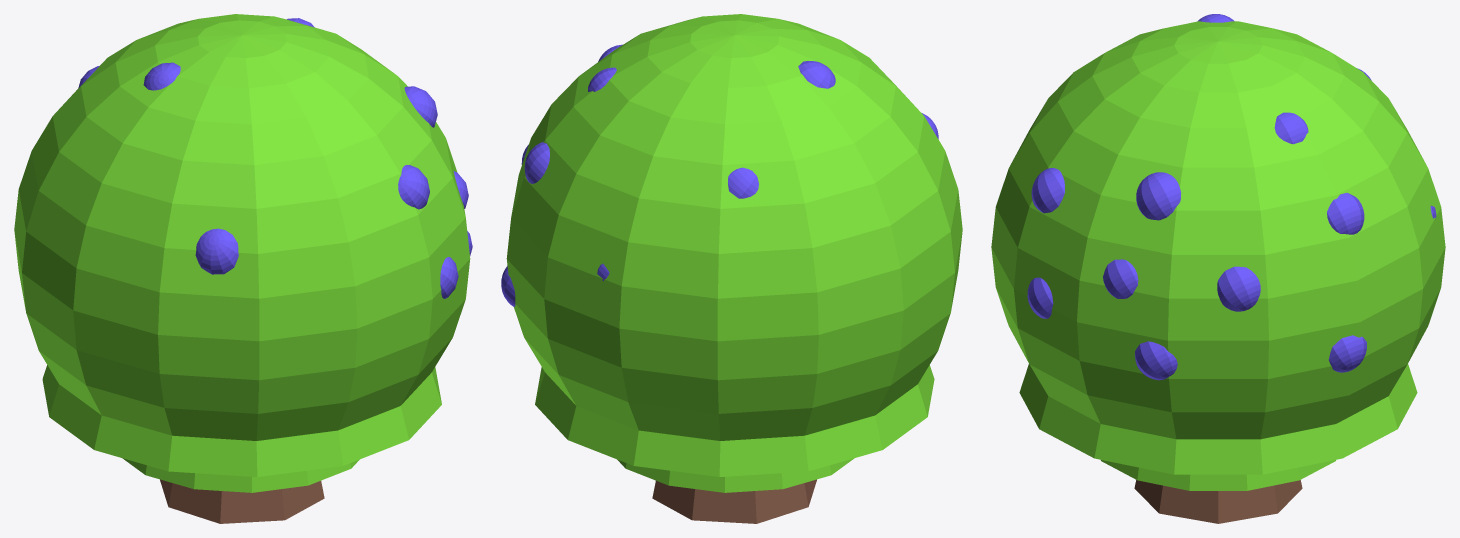
File: Bush 2.fbx
The picture shows the model from 3 angles, left to right: view 1: azimuth 30°, elevation 25°; view 2: azimuth 150°, elevation 25°; view 3: azimuth 270°, elevation 25°; orthographic projection.
Visible parts, largest first — view 1: bush, berries, trunk; view 2: bush, trunk, berries; view 3: bush, berries, trunk.
Boxes of the visible parts, x1,y1,x2,y2 form: bush: [14, 14, 470, 492]; berries: [78, 18, 472, 298]; trunk: [160, 479, 324, 523]; bush: [506, 14, 962, 492]; trunk: [652, 479, 816, 523]; berries: [501, 44, 938, 306]; bush: [991, 21, 1445, 490]; berries: [1027, 14, 1436, 380]; trunk: [1134, 480, 1302, 523].
Size of the model in its own units: 431 by 475 by 437.
